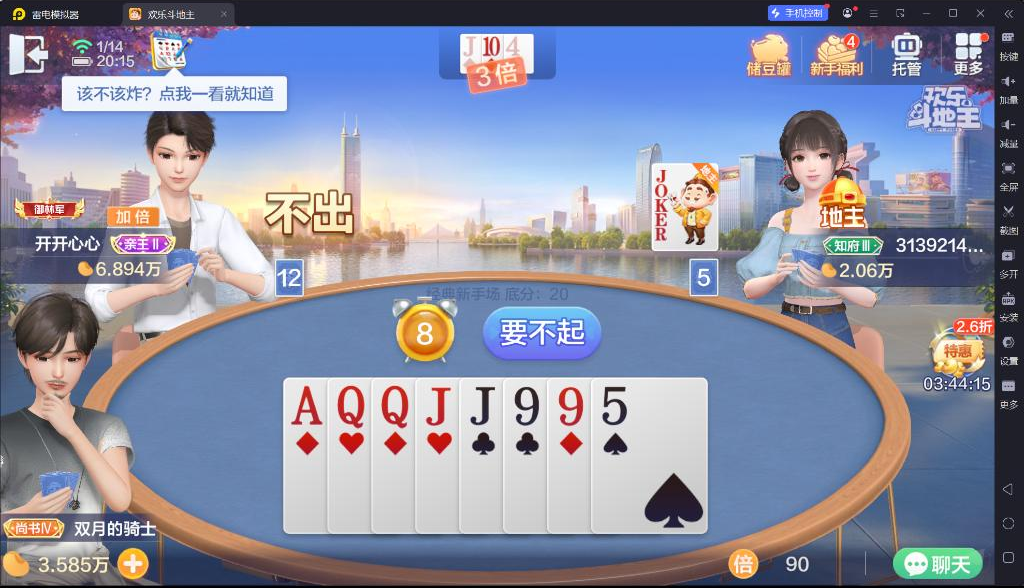A: (289, 383, 326, 429)
J: (464, 385, 498, 427), (422, 385, 454, 427), (461, 35, 478, 58)
JOKER: (653, 167, 669, 215)
Q: (377, 381, 412, 430), (333, 382, 367, 429)
five: (597, 385, 634, 429)
four: (504, 35, 523, 57)
nine: (506, 383, 542, 427), (554, 383, 584, 429)
ten: (482, 35, 502, 58)
